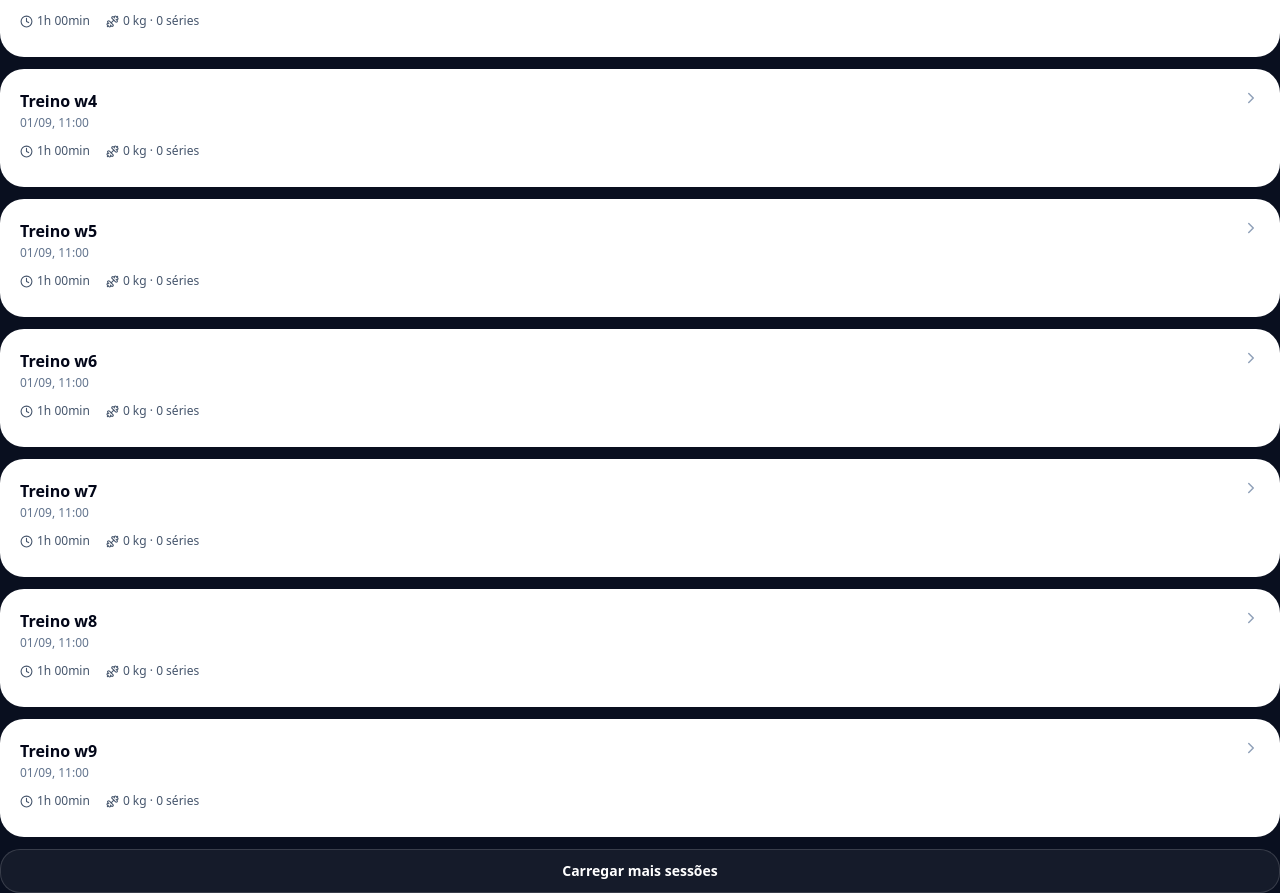
Test: WorkoutHistorySection › busca mais treinos no servidor a cada "Carregar mais sessões", em vez de só revelar o que já veio
The image size is (1280, 893).
(page scrolled)
Click the button "Carregar mais sessões" at (640, 871), box 0,849 -> 1279,892
(page scrolled)
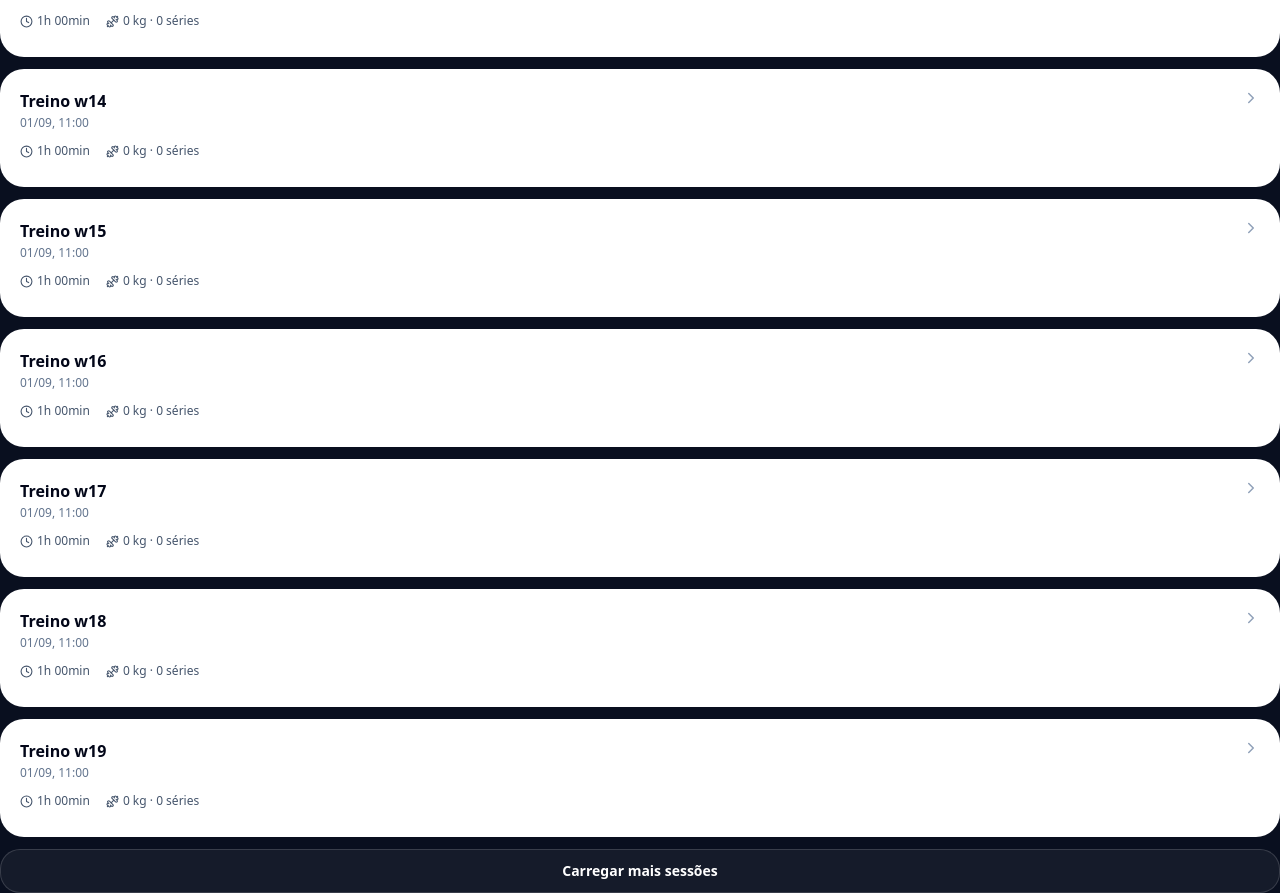
Click the button "Carregar mais sessões" at (640, 871), box 0,849 -> 1279,892
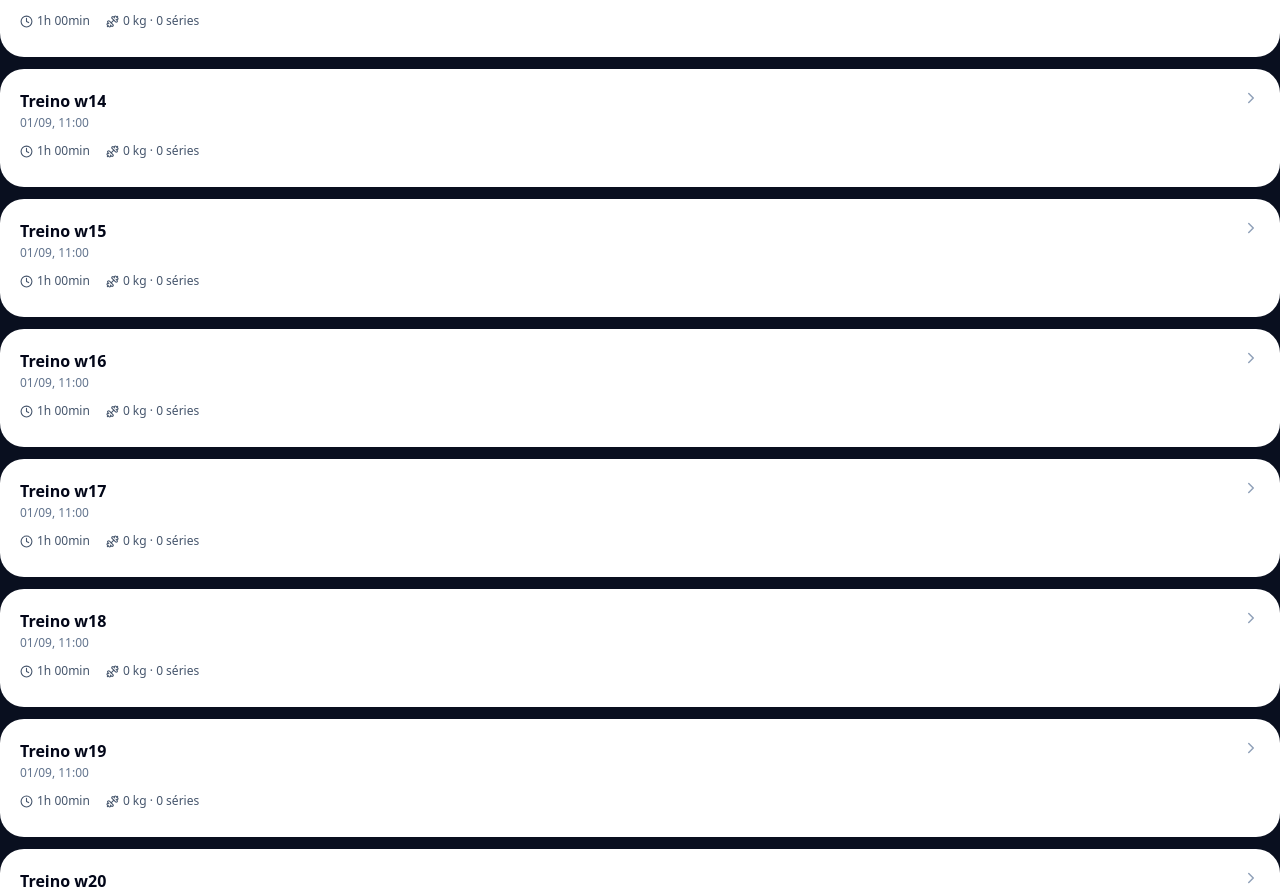
Check: the button "Carregar mais sessões" is gone
